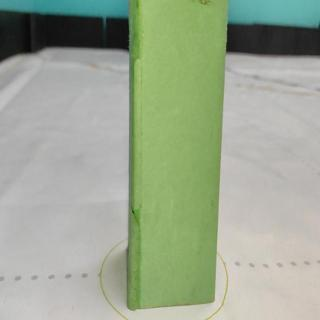greenbox: (127, 1, 229, 313)
